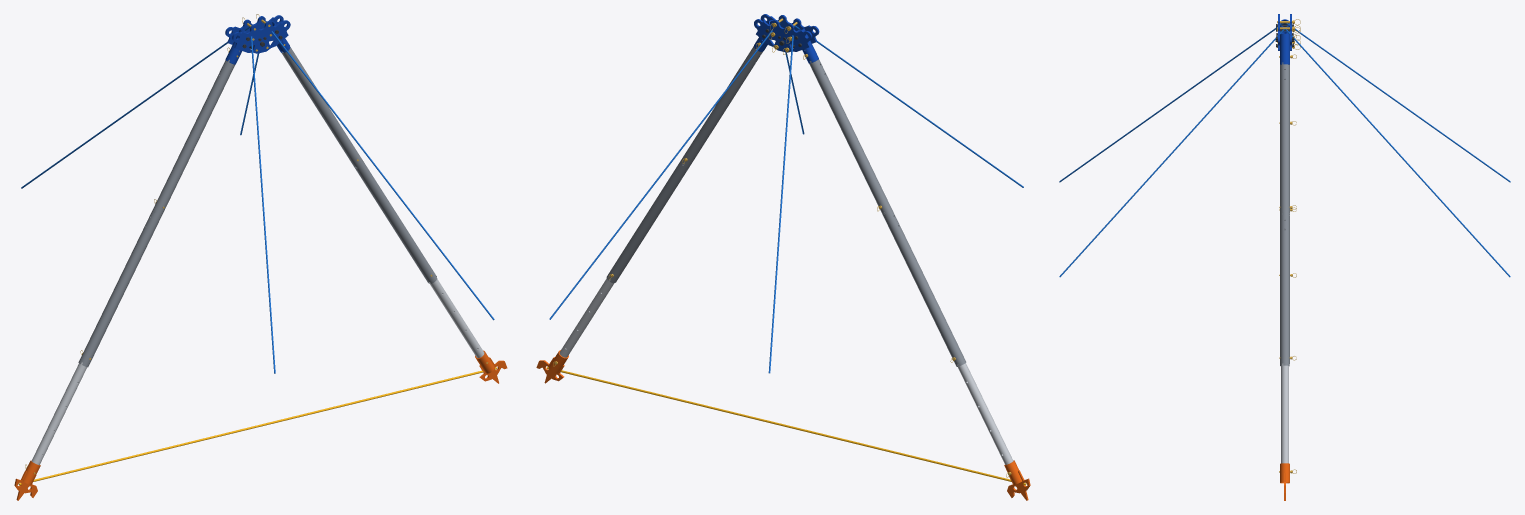
File: bipode_armado.glb
The picture shows the model from 3 angles, left to right: view 1: azimuth 30°, elevation 25°; view 2: azimuth 150°, elevation 25°; view 3: azimuth 270°, elevation 25°; orthographic projection. The views are drawn at different scales.
Parts seen in each view (by area): view 1: pe0_i, pe1_i, pe1_d, pe0_d, maniota, placa_trasera, pi_i, pi_d, viento_atras_1, viento_atras_-1, viento_adelante_-1, pie_i; view 2: pe0_i, pe1_i, pe1_d, pe0_d, maniota, placa_delantera, pi_i, pi_d, viento_adelante_1, viento_adelante_-1, viento_atras_-1, pie_i; view 3: pe1_d, pe0_d, pi_d, viento_adelante_1, viento_atras_1, viento_atras_-1, viento_adelante_-1.
Part boxes in pixels (<box>): pe0_i: <box>152,50,239,215</box>; pe1_i: <box>78,211,161,367</box>; pe1_d: <box>355,162,437,283</box>; pe0_d: <box>281,46,363,167</box>; maniota: <box>18,367,496,485</box>; placa_trasera: <box>232,20,290,53</box>; pi_i: <box>31,362,86,465</box>; pi_d: <box>429,279,484,357</box>; viento_atras_1: <box>271,31,494,320</box>; viento_atras_-1: <box>250,27,275,373</box>; viento_adelante_-1: <box>21,26,249,188</box>; pie_i: <box>14,460,40,500</box>; pe0_i: <box>805,50,892,215</box>; pe1_i: <box>883,211,966,366</box>; pe1_d: <box>606,161,689,283</box>; pe0_d: <box>680,46,762,167</box>; maniota: <box>547,367,1026,485</box>; placa_delantera: <box>754,19,812,52</box>; pi_i: <box>957,363,1013,464</box>; pi_d: <box>559,278,614,357</box>; viento_adelante_1: <box>549,30,772,319</box>; viento_adelante_-1: <box>768,26,794,373</box>; viento_atras_-1: <box>794,25,1023,187</box>; pie_i: <box>1004,460,1030,500</box>; pe1_d: <box>1280,213,1289,366</box>; pe0_d: <box>1280,62,1289,215</box>; pi_d: <box>1281,363,1288,463</box>; viento_adelante_1: <box>1285,29,1510,277</box>; viento_atras_1: <box>1059,29,1284,277</box>; viento_atras_-1: <box>1059,23,1283,182</box>; viento_adelante_-1: <box>1286,23,1510,182</box>.
Size of the model in its own units: 3143 by 2577 by 2808.
